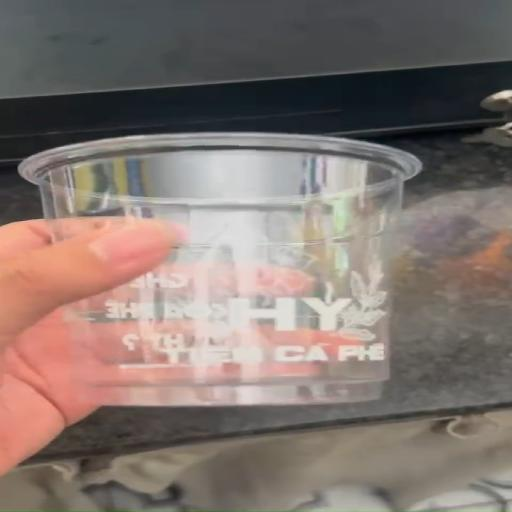ly_nhua: (19, 132, 419, 405)
